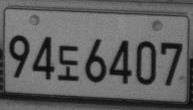0: (135, 40, 157, 86)
4: (31, 36, 55, 80), (109, 40, 132, 84)
6: (84, 38, 106, 83)
7: (160, 41, 183, 86)
9: (8, 34, 30, 78)
도: (57, 45, 79, 81)
